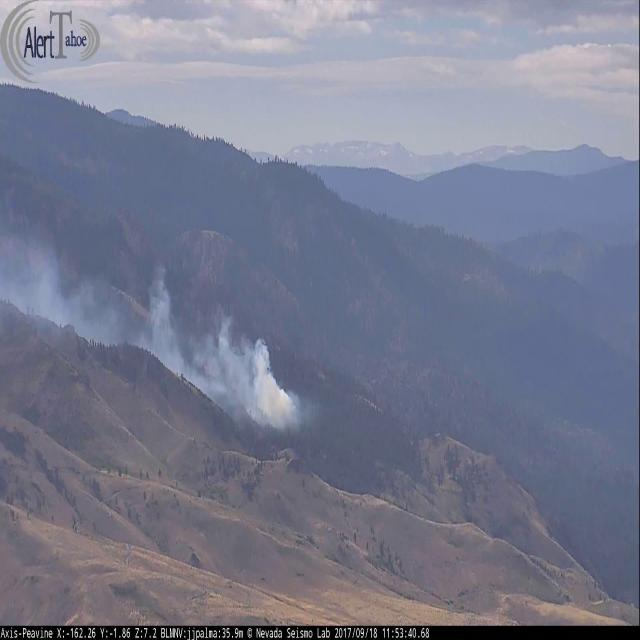smoke: (1, 222, 326, 435)
